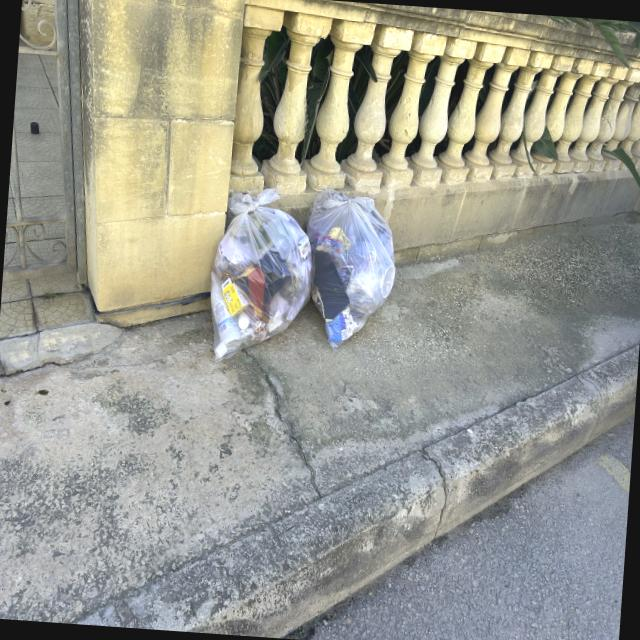grey_bag: (202, 182, 318, 370), (297, 182, 405, 356)
